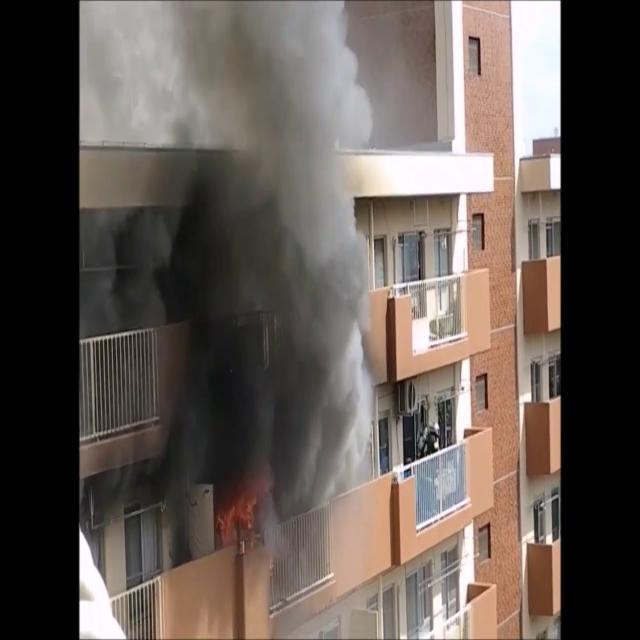Smoke: (94, 1, 380, 558)
